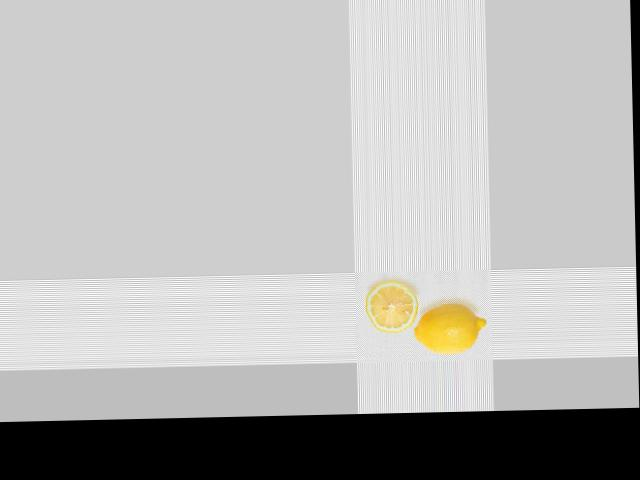lemon: (405, 306, 486, 359)
